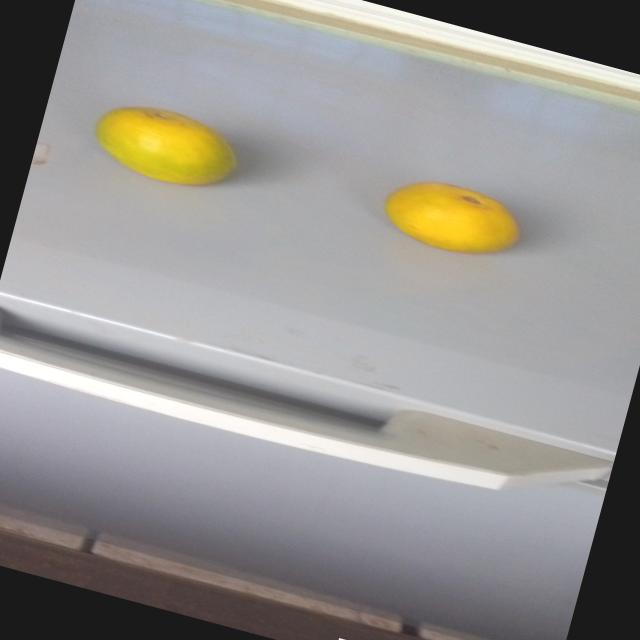Ripe orange: (72, 78, 258, 222), (338, 158, 539, 284)
